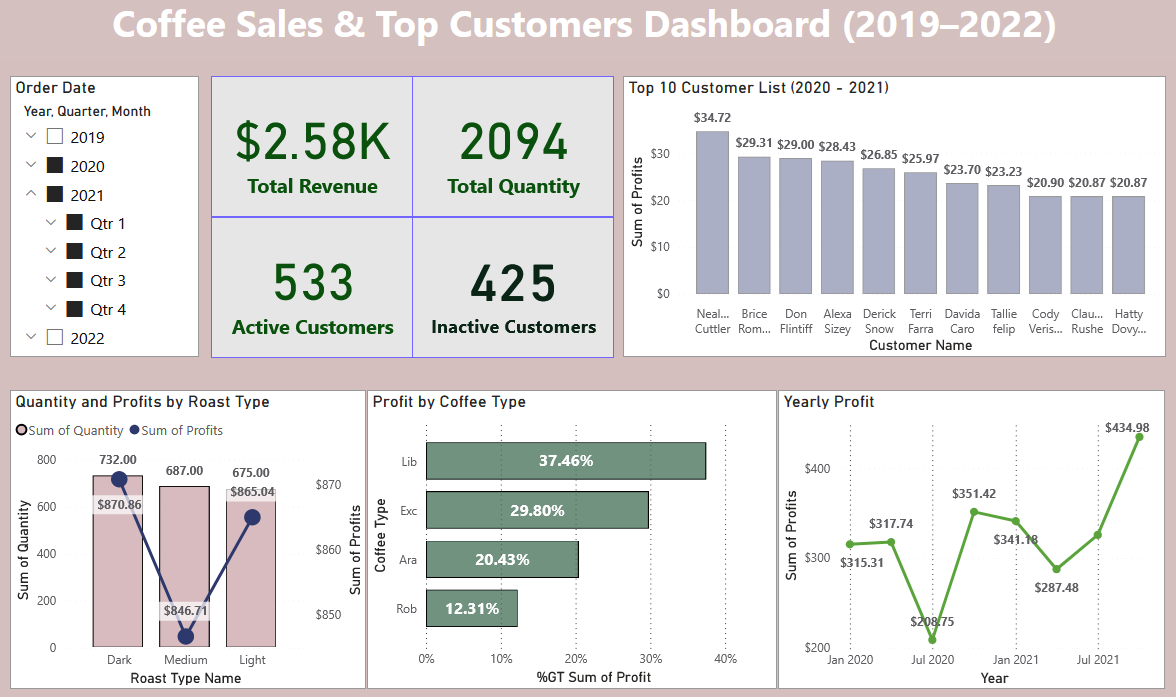

The page's visual inventory and layout, read from the dashboard file:
{"tool":"powerbi","page":{"name":"Page 1","canvas":[1280,720],"ordinal":0},"visuals":[{"type":"lineStackedColumnComboChart","title":"Quantity and Profits by Roast Type","fields":{"Category":["products.Roast Type Name"],"Y2":["orders.Profits"],"Y":["orders.Quantity"]},"box":[59.5,401.4,360,302.9],"z":0},{"type":"lineChart","title":"Yearly Profit","fields":{"Category":["orders.Order Date.Variation.Date Hierarchy.Year","orders.Order Date.Variation.Date Hierarchy.Quarter"],"Y":["orders.Profits"]},"box":[835.2,401.4,391.4,302.9],"z":1000},{"type":"clusteredBarChart","title":"Profit by Coffee Type","fields":{"Category":["products.Coffee Type"],"Y":["products.Profit"]},"box":[420,401.2,415,302.5],"z":2000},{"type":"columnChart","fields":{"Category":["customers.Customer Name"],"Y":["orders.Profits"]},"box":[678.3,85,548.3,283.3],"z":3000},{"type":"slicer","title":"Order Date","fields":{"Values":["orders.Order Date.Variation.Date Hierarchy.Year","orders.Order Date.Variation.Date Hierarchy.Quarter","orders.Order Date.Variation.Date Hierarchy.Month"]},"box":[59.5,85,191.7,283.3],"z":4000},{"type":"card","fields":{"Values":["orders.Customer ID"]},"box":[261.8,227.4,204,142.5],"z":5000},{"type":"card","fields":{"Values":["customers.Inactive Customer"]},"box":[465.2,227.4,204.4,142.2],"z":6000},{"type":"card","fields":{"Values":["orders.Profits"]},"box":[261.8,84.9,204,142.5],"z":7000},{"type":"textbox","box":[1.6,0,1276,69.6],"z":10000},{"type":"card","fields":{"Values":["orders.Quantity"]},"box":[465.3,84.9,204,142.5],"z":11000}]}

Visuals, with their boxes on the page's 1280x720 design canvas (x1, y1, x2, y2). These are canvas units, not pixel positions in the 1176x697 screenshot, which may show the page scaled, cropped or inside an application window:
"Quantity and Profits by Roast Type" lineStackedColumnComboChart: left=60, top=401, right=420, bottom=704
"Yearly Profit" lineChart: left=835, top=401, right=1227, bottom=704
"Profit by Coffee Type" clusteredBarChart: left=420, top=401, right=835, bottom=704
columnChart - customers.Customer Name x orders.Profits: left=678, top=85, right=1227, bottom=368
"Order Date" slicer: left=60, top=85, right=251, bottom=368
card - orders.Customer ID: left=262, top=227, right=466, bottom=370
card - customers.Inactive Customer: left=465, top=227, right=670, bottom=370
card - orders.Profits: left=262, top=85, right=466, bottom=227
textbox: left=2, top=0, right=1278, bottom=70
card - orders.Quantity: left=465, top=85, right=669, bottom=227
